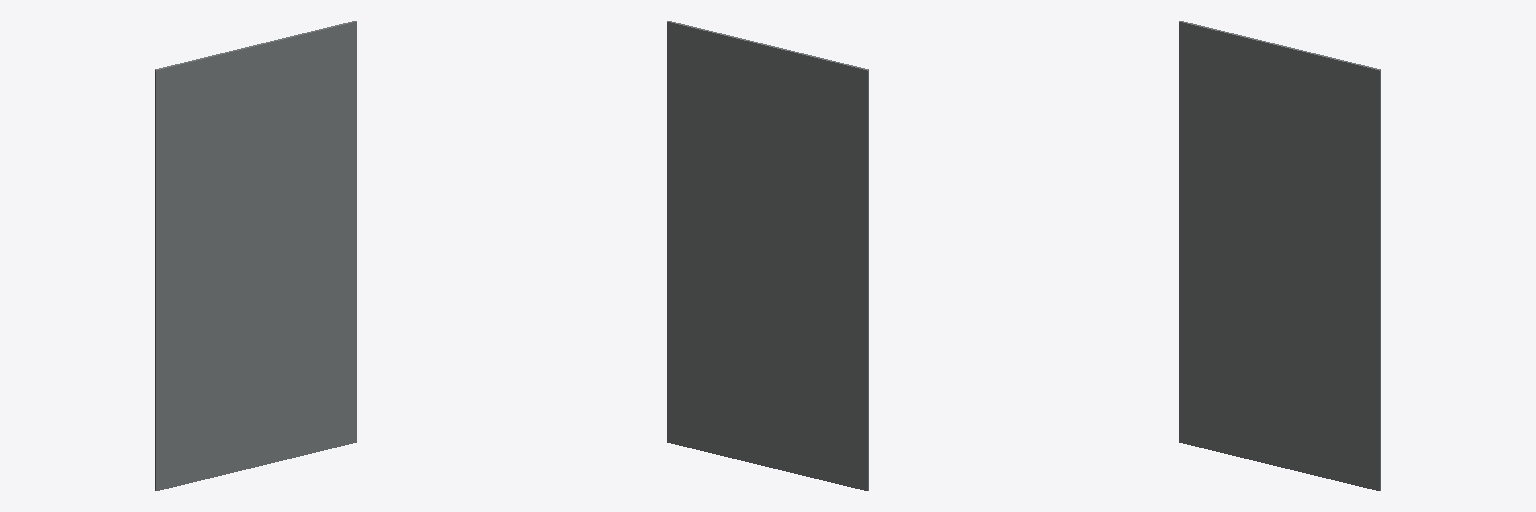
URDF robot description (Site.SLDASM):
<?xml version="1.0" encoding="utf-8"?>
<!-- This URDF was automatically created by SolidWorks to URDF Exporter! Originally created by [author] ([email redacted]) 
     Commit Version: 1.6.0-4-g7f85cfe  Build Version: 1.6.7995.38578
     For more information, please see http://wiki.ros.org/sw_urdf_exporter -->
<robot
  name="Site.SLDASM">
  <link
    name="base_link">
    <inertial>
      <origin
        xyz="1.0987E-17 -0.025 1"
        rpy="0 0 0" />
      <mass
        value="12480" />
      <inertia
        ixx="29123"
        ixy="3.081E-13"
        ixz="3.2792E-12"
        iyy="45760"
        iyz="-2.5907E-13"
        izz="16643" />
    </inertial>
    <visual>
      <origin
        xyz="0 0 0"
        rpy="0 0 0" />
      <geometry>
        <mesh
          filename="package://Site.SLDASM/meshes/base_link.STL" />
      </geometry>
      <material
        name="">
        <color
          rgba="0.52941 0.54902 0.54902 1" />
      </material>
    </visual>
    <collision>
      <origin
        xyz="0 0 0"
        rpy="0 0 0" />
      <geometry>
        <mesh
          filename="package://Site.SLDASM/meshes/base_link.STL" />
      </geometry>
    </collision>
  </link>
</robot>

--- Facts derived from the render (not from the file) ---
The picture shows the robot from 3 angles, left to right: view 1: azimuth 30°, elevation 25°; view 2: azimuth 150°, elevation 25°; view 3: azimuth 330°, elevation 25°; orthographic projection.
Model Site.SLDASM with 1 links and 0 joints (none), rooted at base_link, posed every joint at zero.
Links seen in each view (by area): view 1: base_link; view 2: base_link; view 3: base_link.
Boxes of the visible links, x1,y1,x2,y2 form: base_link: (155, 21, 356, 490); base_link: (667, 21, 868, 490); base_link: (1179, 21, 1380, 490).
Size in the robot's own frame: 4 by 0.05 by 8 metres.
Meshes: 1 distinct files referenced, 1 mesh visuals loaded (1 binary STL).